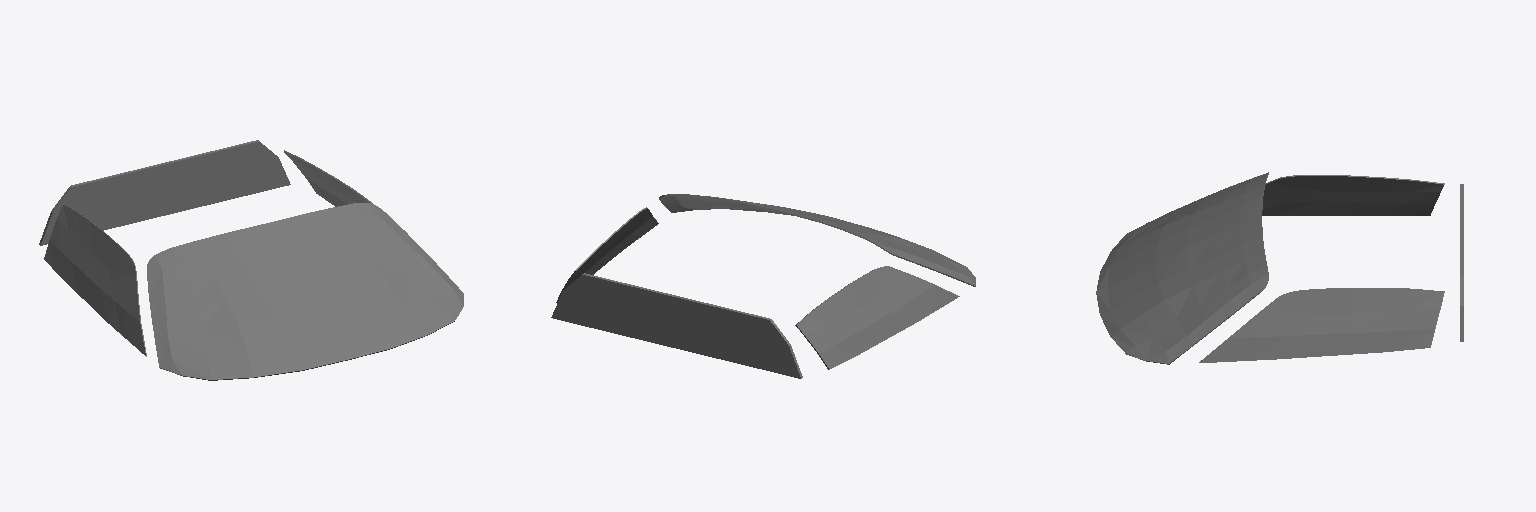
Rendered from Ventanas_Carro.obj.
The picture shows the model from 3 angles: view 1: azimuth 30°, elevation 25°; view 2: azimuth 150°, elevation 25°; view 3: azimuth 270°, elevation 25°; orthographic projection.
Parts seen in each view (by area): view 1: Vidrios_Carro; view 2: Vidrios_Carro; view 3: Vidrios_Carro.
Boxes of the visible parts, x1=… form: Vidrios_Carro: x1=39, y1=140, x2=463, y2=380; Vidrios_Carro: x1=551, y1=194, x2=975, y2=378; Vidrios_Carro: x1=1096, y1=172, x2=1463, y2=364.
Size of the model in its own units: 45.27 by 11.14 by 47.33.